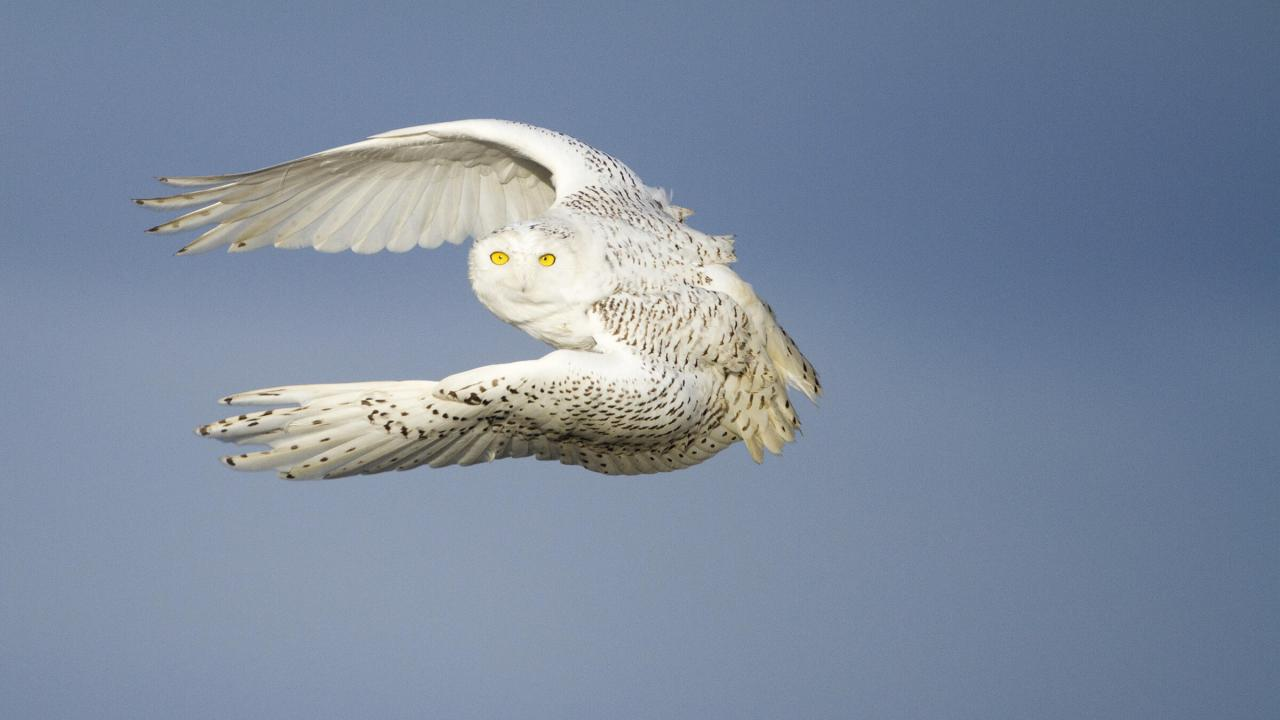Bird: (125, 100, 836, 493)
